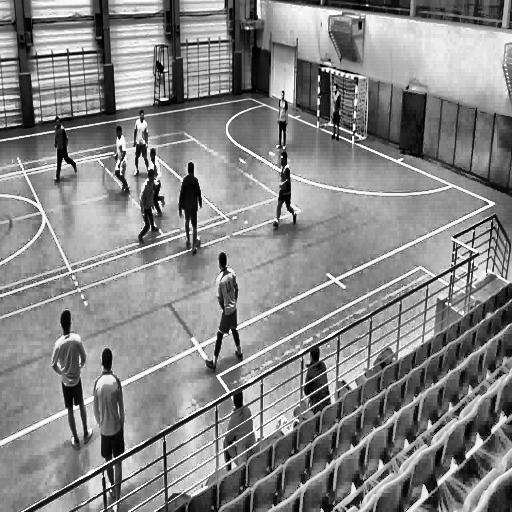ball: (194, 234, 203, 249)
player: (52, 309, 94, 452), (92, 348, 128, 511), (206, 252, 247, 372), (271, 152, 300, 233), (180, 163, 202, 259), (52, 116, 78, 185), (140, 169, 160, 247), (148, 149, 167, 222), (114, 124, 130, 195), (133, 107, 148, 175), (275, 90, 289, 150), (330, 81, 342, 143)
